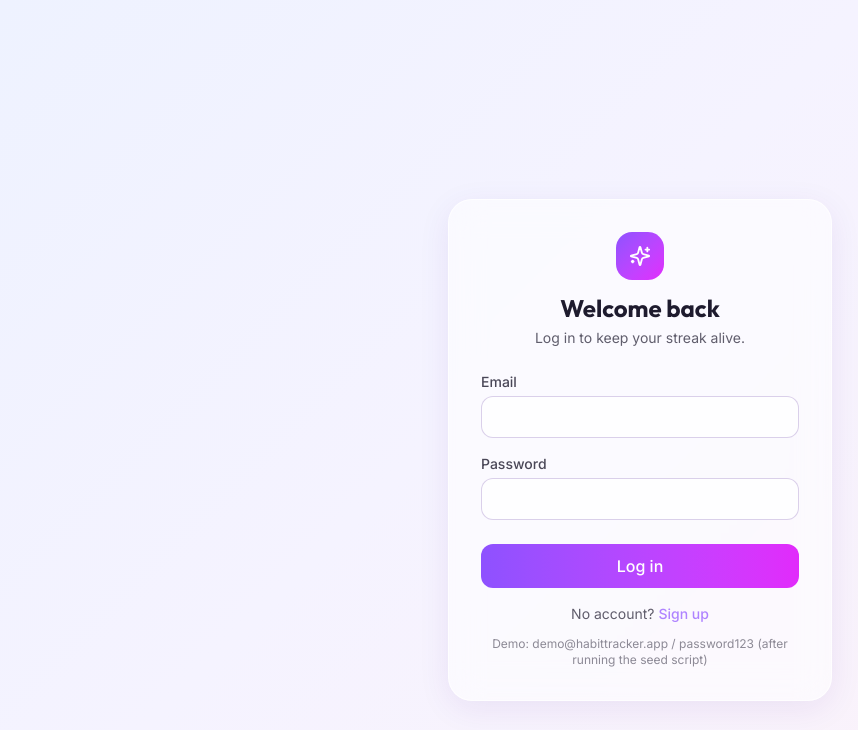
Test: Login page › disables the button while the request is in flight
Type "a@b.co" into the field labelled "Email". click: point(640, 417)
box: [481,396,799,438]
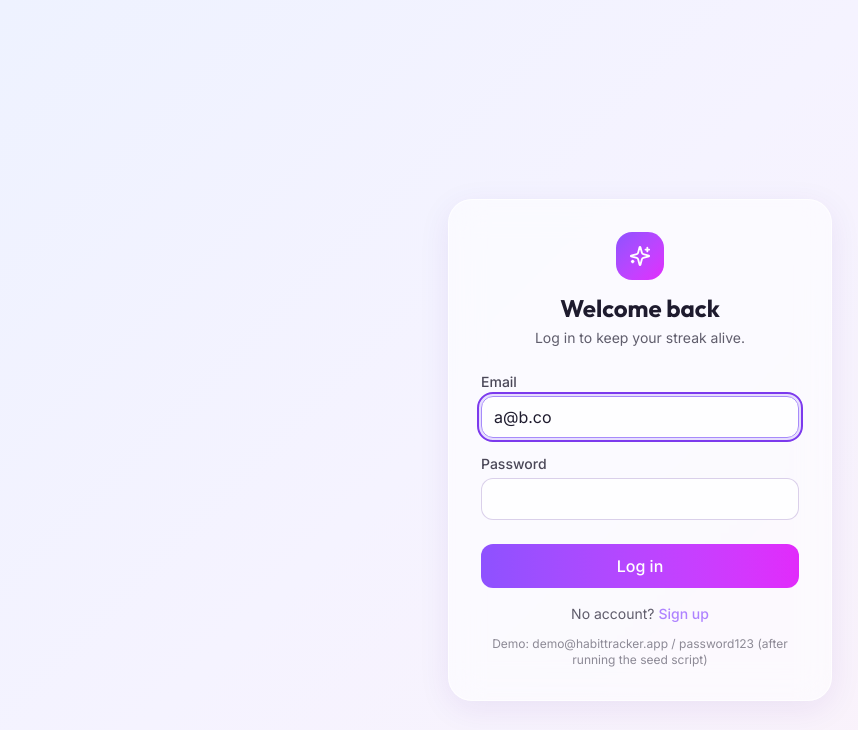
Type "password123" into the password field labelled "Password". click: point(640, 499)
box: [481,478,799,520]
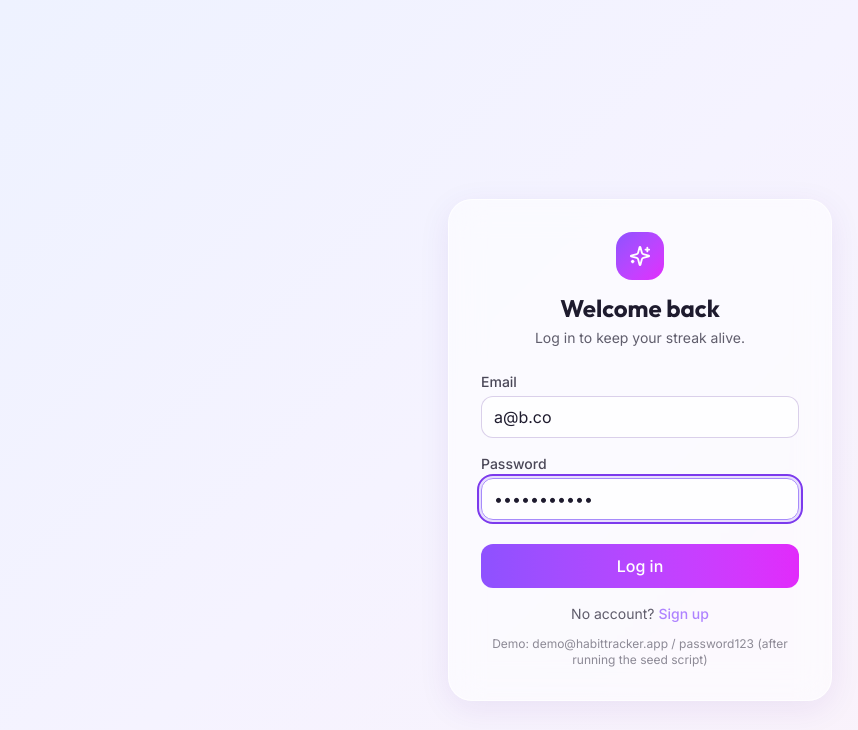
Click the button "Log in". click: point(640, 566)
box: [481,544,799,588]
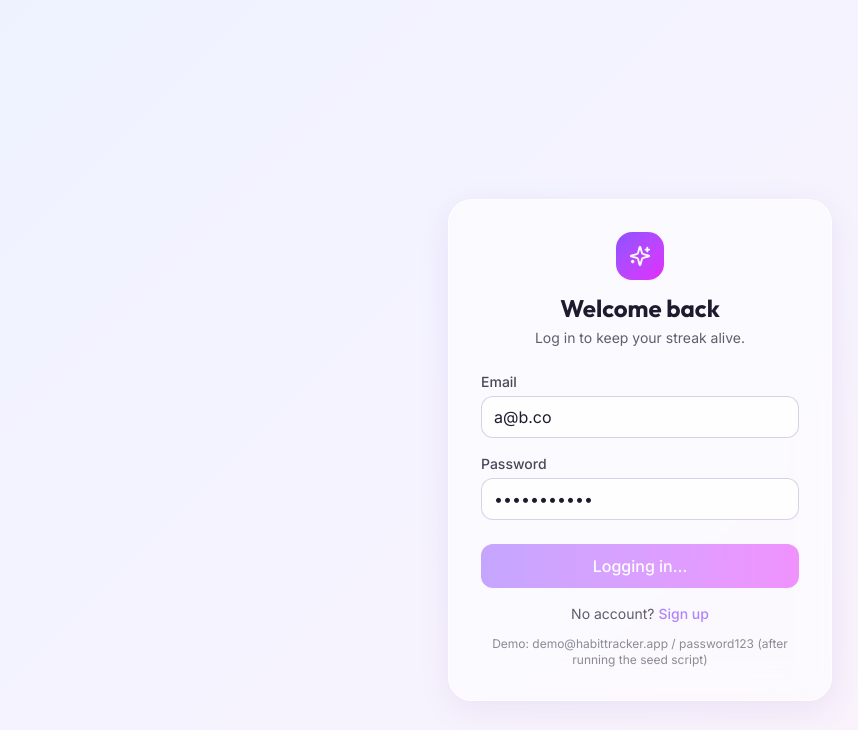
Expected: the button "Logging in…" is disabled, [481,544,799,588]
